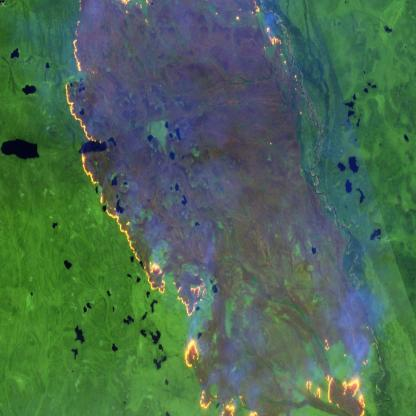fire: (62, 0, 381, 416)
